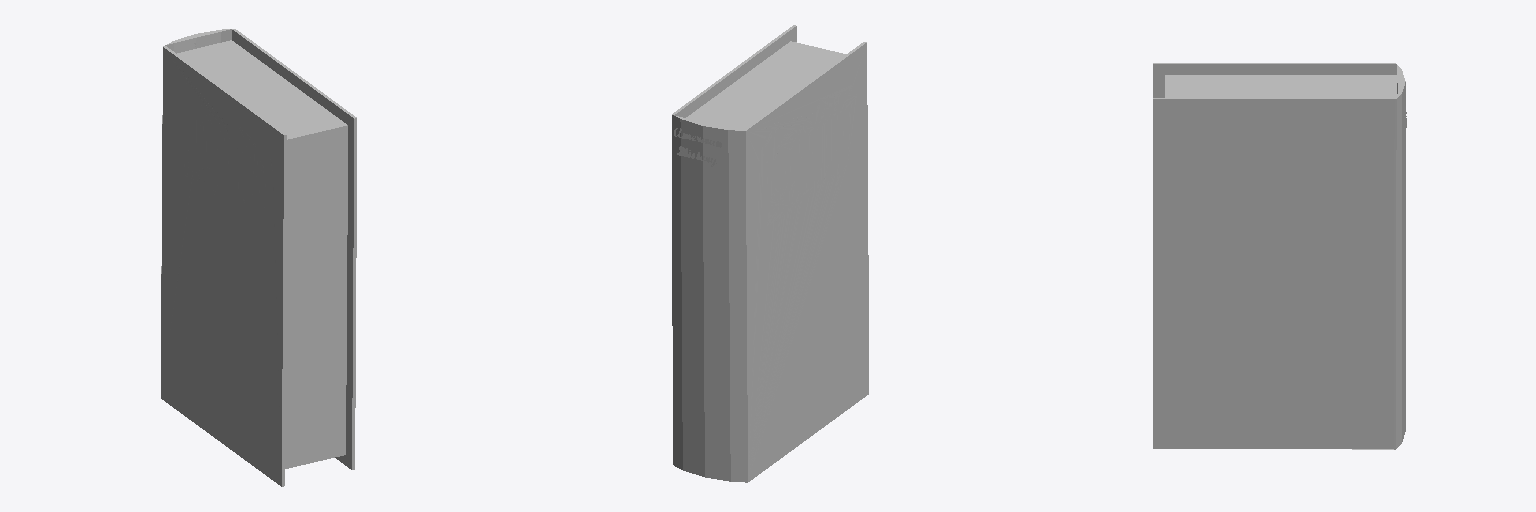
The model's file is book1.obj.
3 renders of one model, left to right at view 1: azimuth 30°, elevation 25°; view 2: azimuth 150°, elevation 25°; view 3: azimuth 270°, elevation 25°, orthographic.
Visible parts, largest first — view 1: grp3, grp5, grp1; view 2: grp3, grp5, grp1; view 3: grp3, grp5, grp4.
Part boxes in pixels (x1,y1,x2,y2): grp3: (161,29,356,486); grp5: (177,41,347,468); grp1: (176,82,272,236); grp3: (672,25,868,482); grp5: (686,41,845,130); grp1: (759,85,856,225); grp3: (1153,63,1405,449); grp5: (1165,75,1396,97); grp4: (1394,94,1397,449).
Bounding box in the file's own units: 1.81 × 8.01 × 5.25.